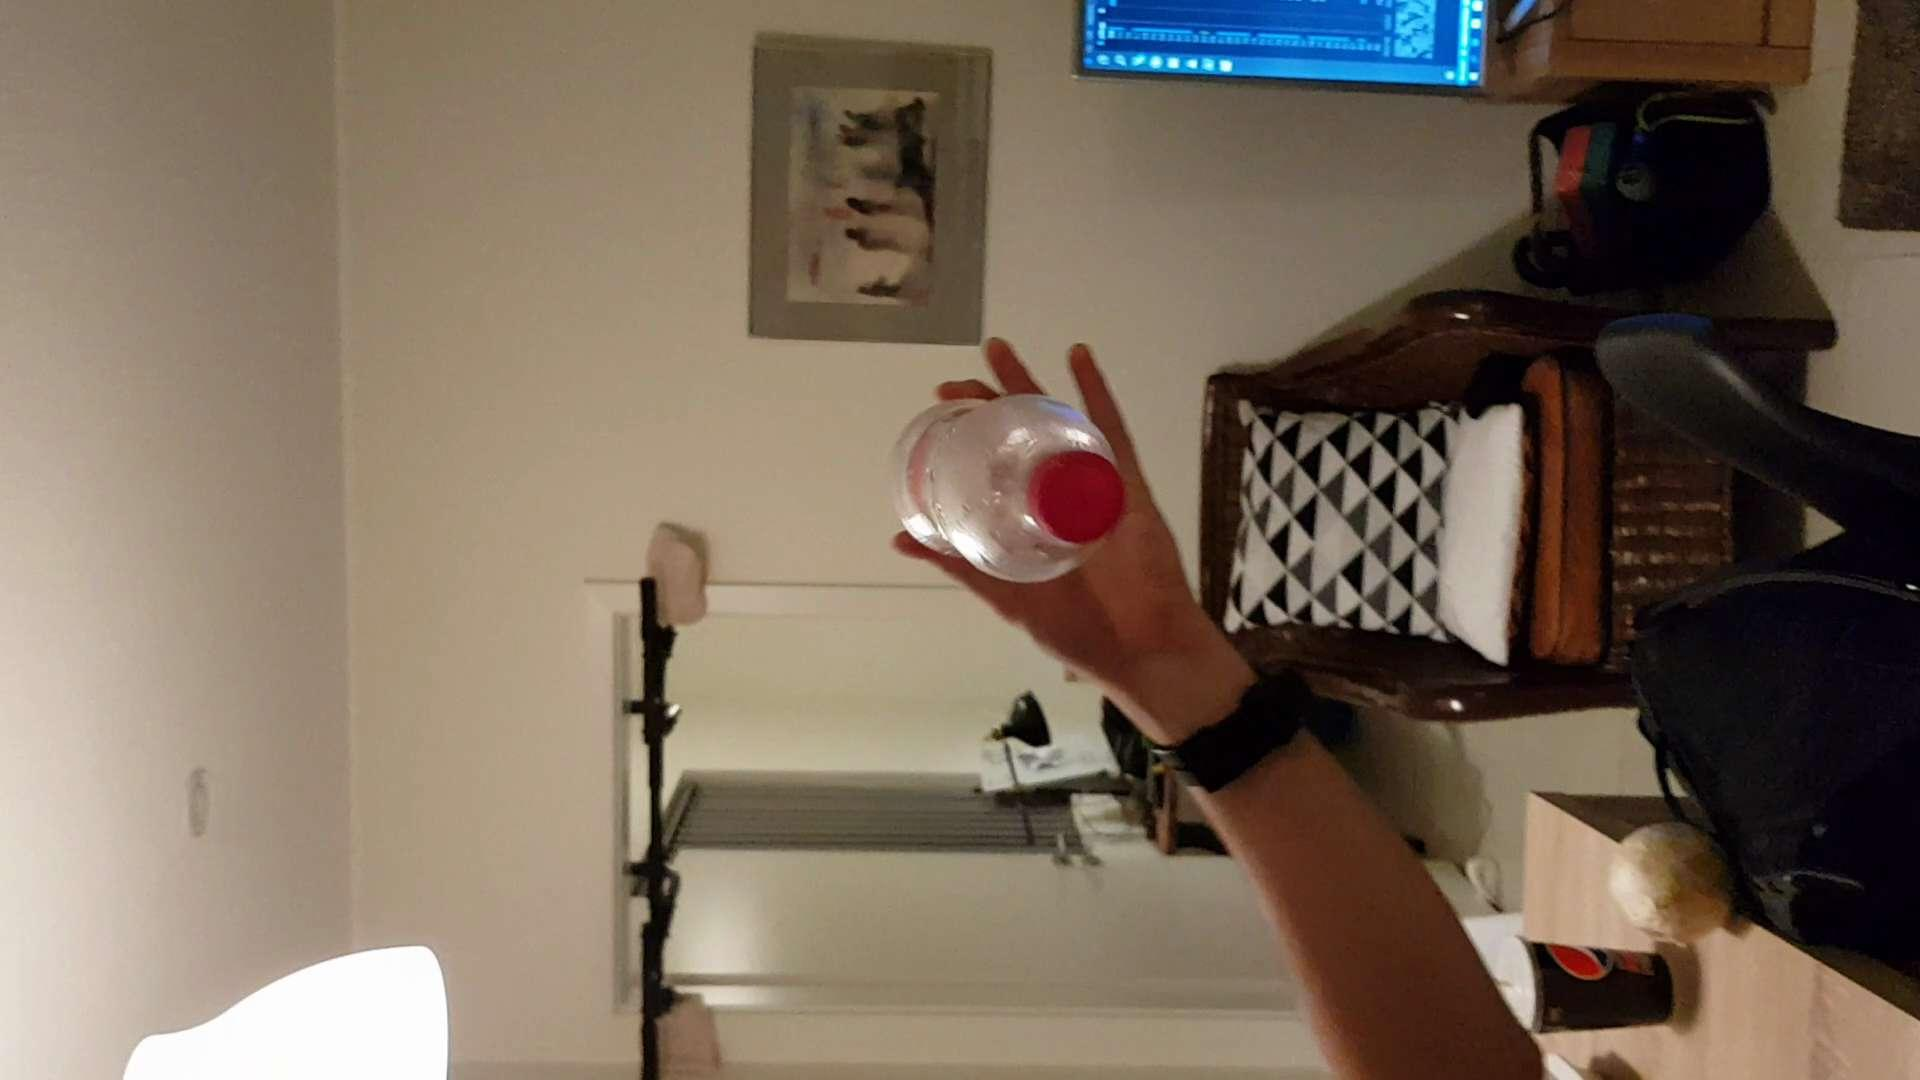Bottle: (882, 393, 1117, 591)
